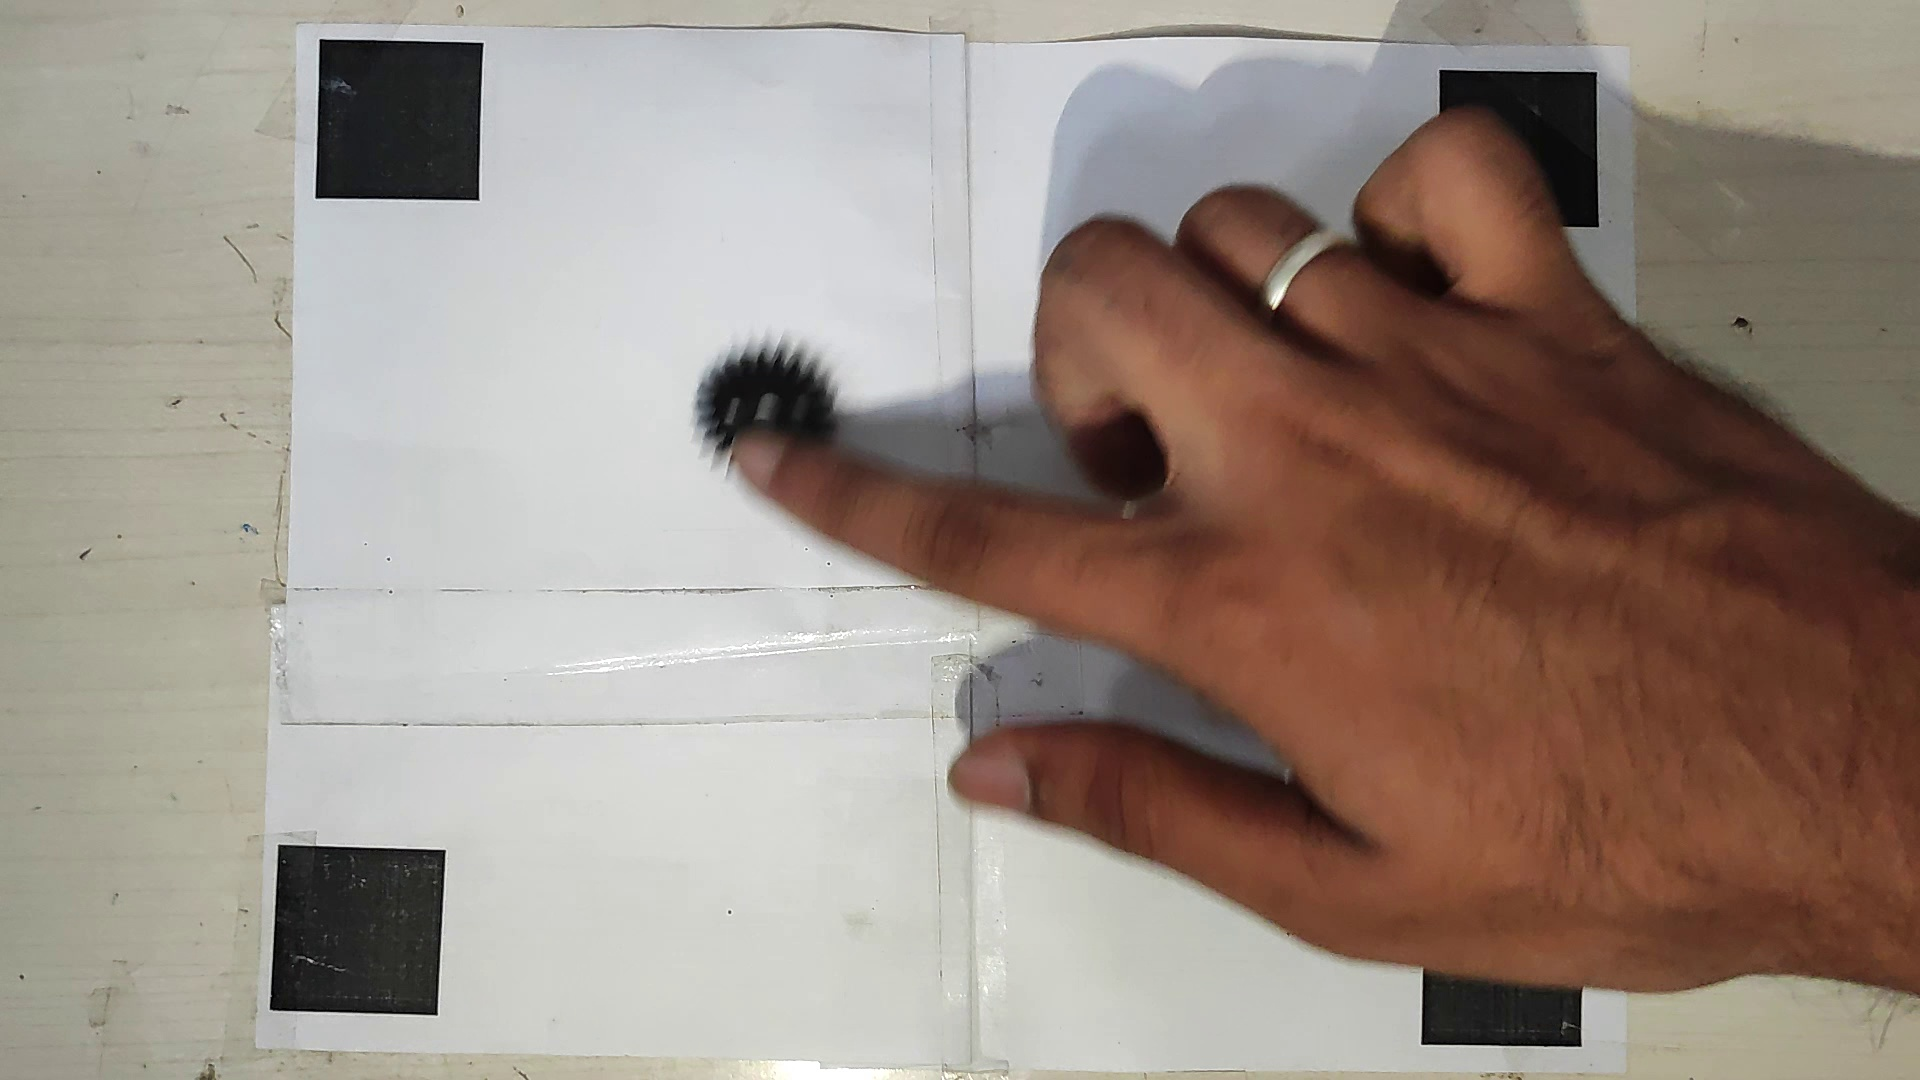Gear: (694, 347, 847, 484)
